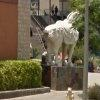Statue: (35, 7, 93, 67)
